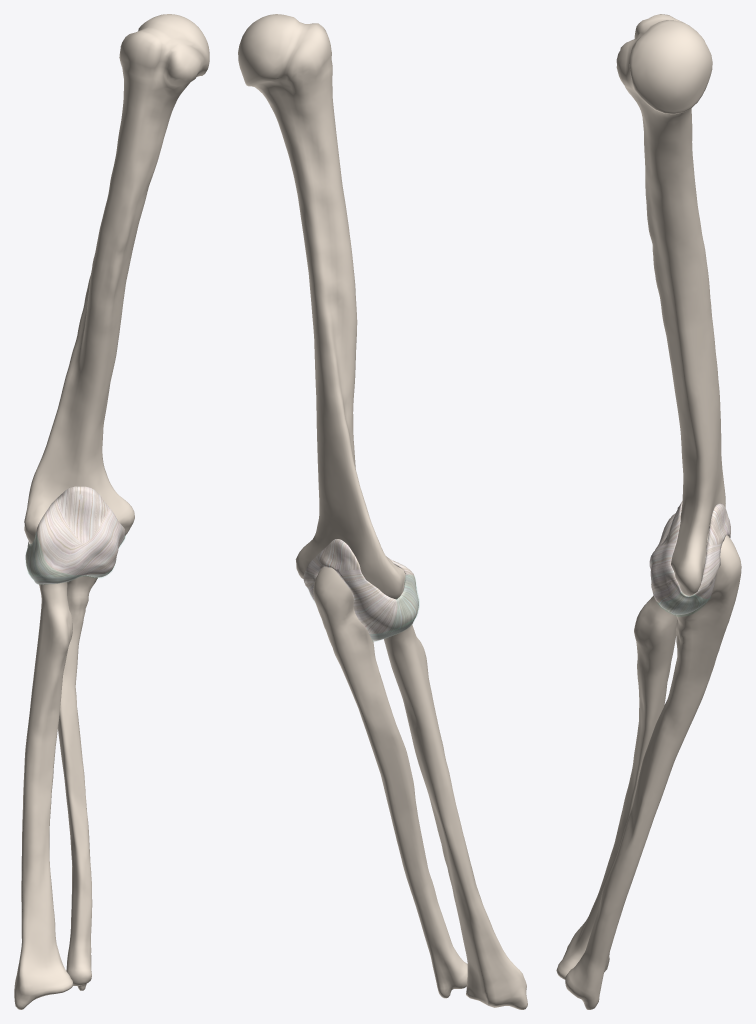
The model's file is elbow-joint.glb.
The picture shows the model from 3 angles, left to right: view 1: azimuth 30°, elevation 25°; view 2: azimuth 150°, elevation 25°; view 3: azimuth 270°, elevation 25°; orthographic projection. The views are drawn at different scales.
Visible parts, largest first — view 1: Humerus.r, Radius.r, Ulna.r, Articular capsule of elbow joint.r; view 2: Humerus.r, Ulna.r, Radius.r, Articular capsule of elbow joint.r; view 3: Humerus.r, Ulna.r, Radius.r, Articular capsule of elbow joint.r.
Part boxes in pixels (left/top/right/bottom): Humerus.r: left=24, top=14, right=209, bottom=543; Radius.r: left=14, top=582, right=73, bottom=1009; Ulna.r: left=58, top=575, right=97, bottom=990; Articular capsule of elbow joint.r: left=25, top=486, right=125, bottom=584; Humerus.r: left=238, top=14, right=405, bottom=599; Ulna.r: left=313, top=567, right=467, bottom=998; Radius.r: left=384, top=624, right=527, bottom=1009; Articular capsule of elbow joint.r: left=303, top=539, right=418, bottom=641; Humerus.r: left=616, top=14, right=725, bottom=595; Ulna.r: left=565, top=531, right=741, bottom=1009; Radius.r: left=556, top=595, right=676, bottom=979; Articular capsule of elbow joint.r: left=649, top=501, right=730, bottom=614.
Size of the model in its own units: 0.1429 by 0.5482 by 0.0875.
Materials: 7 (1 with a texture image).
